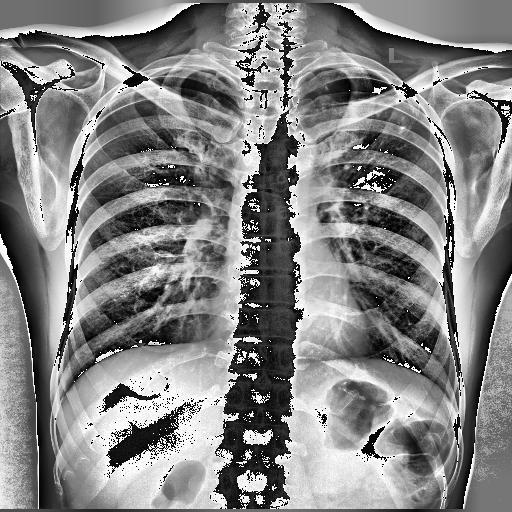0- Aortic enlargement: (265, 132, 318, 174)
11- Pleural thickening: (150, 65, 185, 76)
13- Pulmonary fibrosis: (375, 103, 410, 151), (391, 114, 414, 150), (396, 115, 407, 132)
5- ILD: (114, 178, 162, 325)
